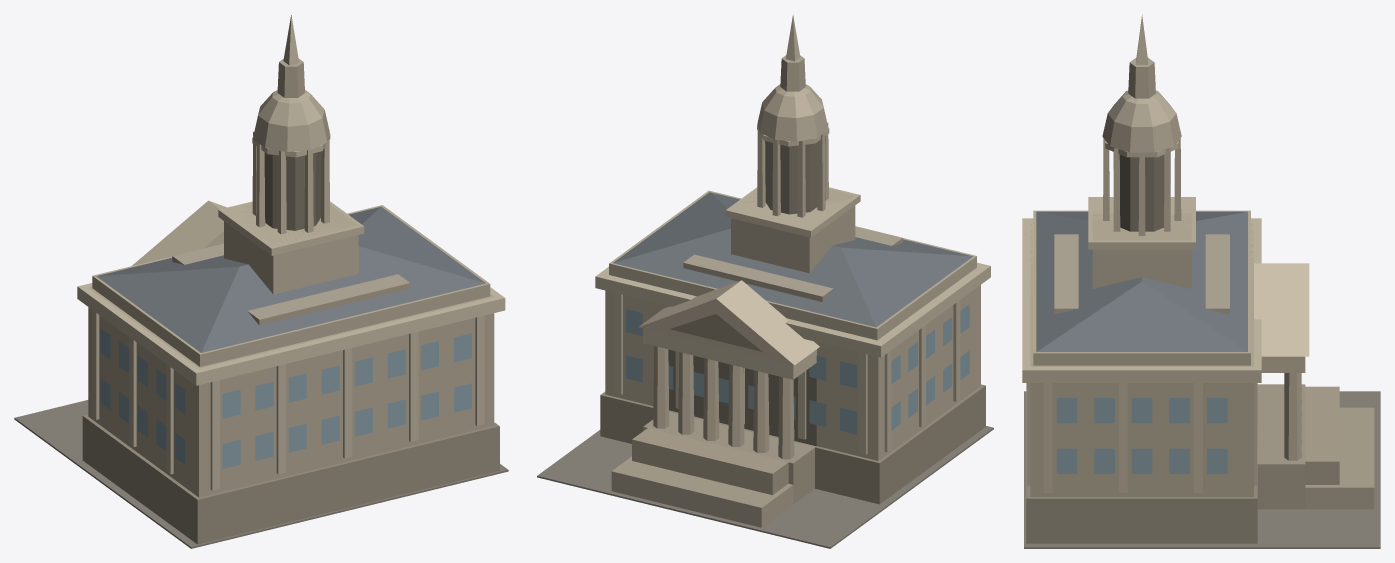
3 views of the same model, side by side, from view 1: azimuth 30°, elevation 25°; view 2: azimuth 150°, elevation 25°; view 3: azimuth 270°, elevation 25° (orthographic). The views are drawn at different scales.
Visible parts, largest first — view 1: brooklyn-borough-hall-lod1; view 2: brooklyn-borough-hall-lod1; view 3: brooklyn-borough-hall-lod1.
Boxes of the visible parts, left/top/right/bottom form: brooklyn-borough-hall-lod1: left=14, top=15, right=508, bottom=548; brooklyn-borough-hall-lod1: left=537, top=14, right=993, bottom=548; brooklyn-borough-hall-lod1: left=1022, top=14, right=1380, bottom=548.
Bounding box in the file's own units: 58 × 79.2 × 56.25.
